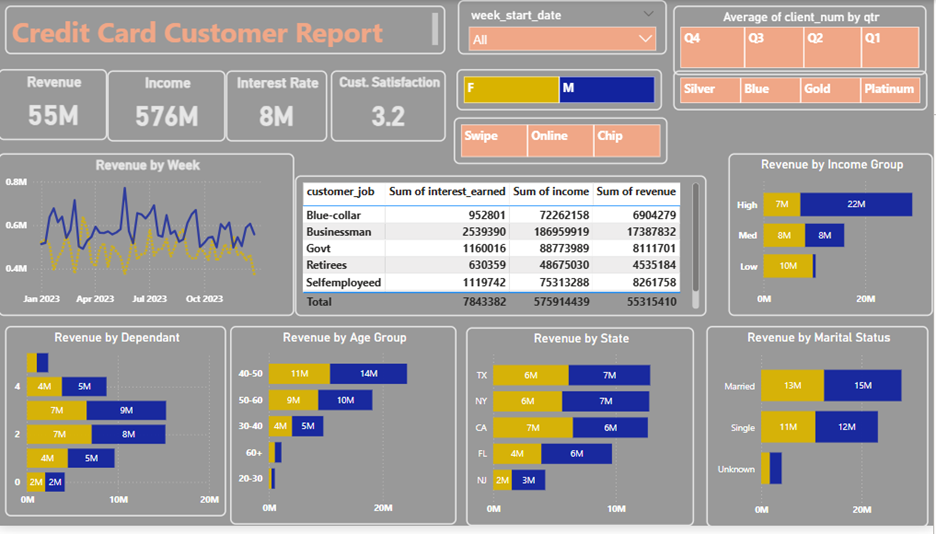

Layout of this report page (visuals, bound fields, positions):
{"tool":"powerbi","page":{"name":"Credit_Card_Customer","canvas":[1280,720],"ordinal":2},"visuals":[{"type":"textbox","box":[9.5,8,602.8,66.8],"z":0},{"type":"barChart","title":"Revenue by Income Group","fields":{"Y":["Sum(public cc_detail.revenue)"],"Category":["public cust_detail.IncomeGroup"],"Series":["public cust_detail.gender"]},"box":[999.7,209.8,279.7,223],"z":1000},{"type":"barChart","title":"Revenue by Age Group","fields":{"Y":["Sum(public cc_detail.revenue)"],"Category":["public cust_detail.AgeGroup"],"Series":["public cust_detail.gender"]},"box":[317.5,446,309.9,272.1],"z":2000},{"type":"barChart","title":"Revenue by State","fields":{"Y":["Sum(public cc_detail.revenue)"],"Category":["public cust_detail.state_cd"],"Series":["public cust_detail.gender"]},"box":[640.6,447.9,311.8,272.1],"z":3000},{"type":"barChart","title":"Revenue by Marital Status","fields":{"Y":["Sum(public cc_detail.revenue)"],"Category":["public cust_detail.marital_status"],"Series":["public cust_detail.gender"]},"box":[968.7,445.4,304,275.2],"z":4000},{"type":"barChart","title":"Revenue by Dependant","fields":{"Category":["public cust_detail.dependent_count"],"Y":["Sum(public cc_detail.revenue)"],"Series":["public cust_detail.gender"]},"box":[9.4,446,302.4,260.8],"z":5000},{"type":"tableEx","fields":{"Values":["public cust_detail.customer_job","Sum(public cc_detail.interest_earned)","Sum(public cust_detail.income)","Sum(public cc_detail.revenue)"]},"box":[406.3,240,563.2,192.8],"z":6000},{"type":"card","title":"Revenue","fields":{"Values":["Sum(public cc_detail.revenue)"]},"box":[0,93.8,149.5,97],"z":7000},{"type":"card","title":"Income ","fields":{"Values":["Sum(public cust_detail.income)"]},"box":[149.5,97,162.2,97],"z":8000},{"type":"card","title":"Interest Rate","fields":{"Values":["Sum(public cc_detail.interest_earned)"]},"box":[311.8,95.4,138.4,97],"z":9000},{"type":"card","title":"Cust. Satisfaction","fields":{"Values":["Avg(public cust_detail.cust_satisfaction_score)"]},"box":[454.9,97,157.5,97],"z":10000},{"type":"slicer","fields":{"Values":["public cc_detail.week_start_date"]},"box":[629.9,0,286.3,74.8],"z":11000},{"type":"treemap","fields":{"Group":["public cc_detail.qtr"],"Values":["Avg(public cc_detail.client_num)"]},"box":[924.1,8,346.8,95.4],"z":12000},{"type":"treemap","fields":{"Values":["Avg(public cc_detail.client_num)"],"Group":["public cust_detail.gender"]},"box":[627.4,94.5,281.6,56.7],"z":13000},{"type":"treemap","fields":{"Values":["Avg(public cc_detail.client_num)"],"Group":["public cc_detail.card_category"]},"box":[924.1,96.4,347.7,54.8],"z":14000},{"type":"lineChart","title":"Revenue by Week","fields":{"Y":["Sum(public cc_detail.revenue)"],"Series":["public cust_detail.gender"],"Category":["public cc_detail.week_start_date.Variation.Date Hierarchy.Year","public cc_detail.week_start_date.Variation.Date Hierarchy.Month","public cc_detail.week_start_date.Variation.Date Hierarchy.Day"]},"box":[0,210,405.6,222.7],"z":15000},{"type":"treemap","fields":{"Values":["Avg(public cc_detail.client_num)"],"Group":["public cc_detail.use_chip","public cc_detail.card_category"]},"box":[623.6,160.6,292.9,64.3],"z":16000}]}

Visuals, with their boxes in screenshot pixels (x1, y1, x2, y2), scaled from the page's 1280x720 canvas onto the 936x534 screenshot:
textbox: box(7, 6, 448, 55)
"Revenue by Income Group" barChart: box(731, 156, 935, 321)
"Revenue by Age Group" barChart: box(232, 331, 459, 533)
"Revenue by State" barChart: box(468, 332, 696, 533)
"Revenue by Marital Status" barChart: box(708, 330, 931, 533)
"Revenue by Dependant" barChart: box(7, 331, 228, 524)
tableEx - public cust_detail.customer_job x Sum(public cc_detail.interest_earned): box(297, 178, 709, 321)
"Revenue" card: box(0, 70, 109, 142)
"Income " card: box(109, 72, 228, 144)
"Interest Rate" card: box(228, 71, 329, 143)
"Cust. Satisfaction" card: box(333, 72, 448, 144)
slicer - public cc_detail.week_start_date: box(461, 0, 670, 55)
treemap - public cc_detail.qtr x Avg(public cc_detail.client_num): box(676, 6, 929, 77)
treemap - Avg(public cc_detail.client_num) x public cust_detail.gender: box(459, 70, 665, 112)
treemap - Avg(public cc_detail.client_num) x public cc_detail.card_category: box(676, 71, 930, 112)
"Revenue by Week" lineChart: box(0, 156, 297, 321)
treemap - Avg(public cc_detail.client_num) x public cc_detail.use_chip: box(456, 119, 670, 167)
